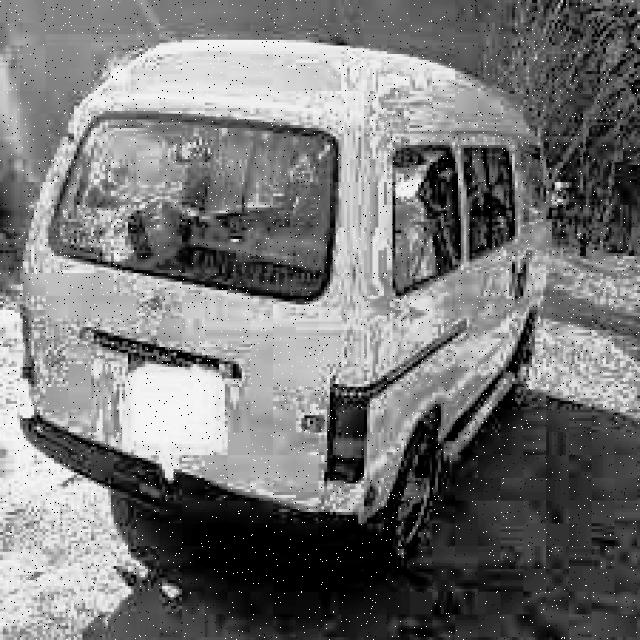LCV: (14, 34, 549, 566)
